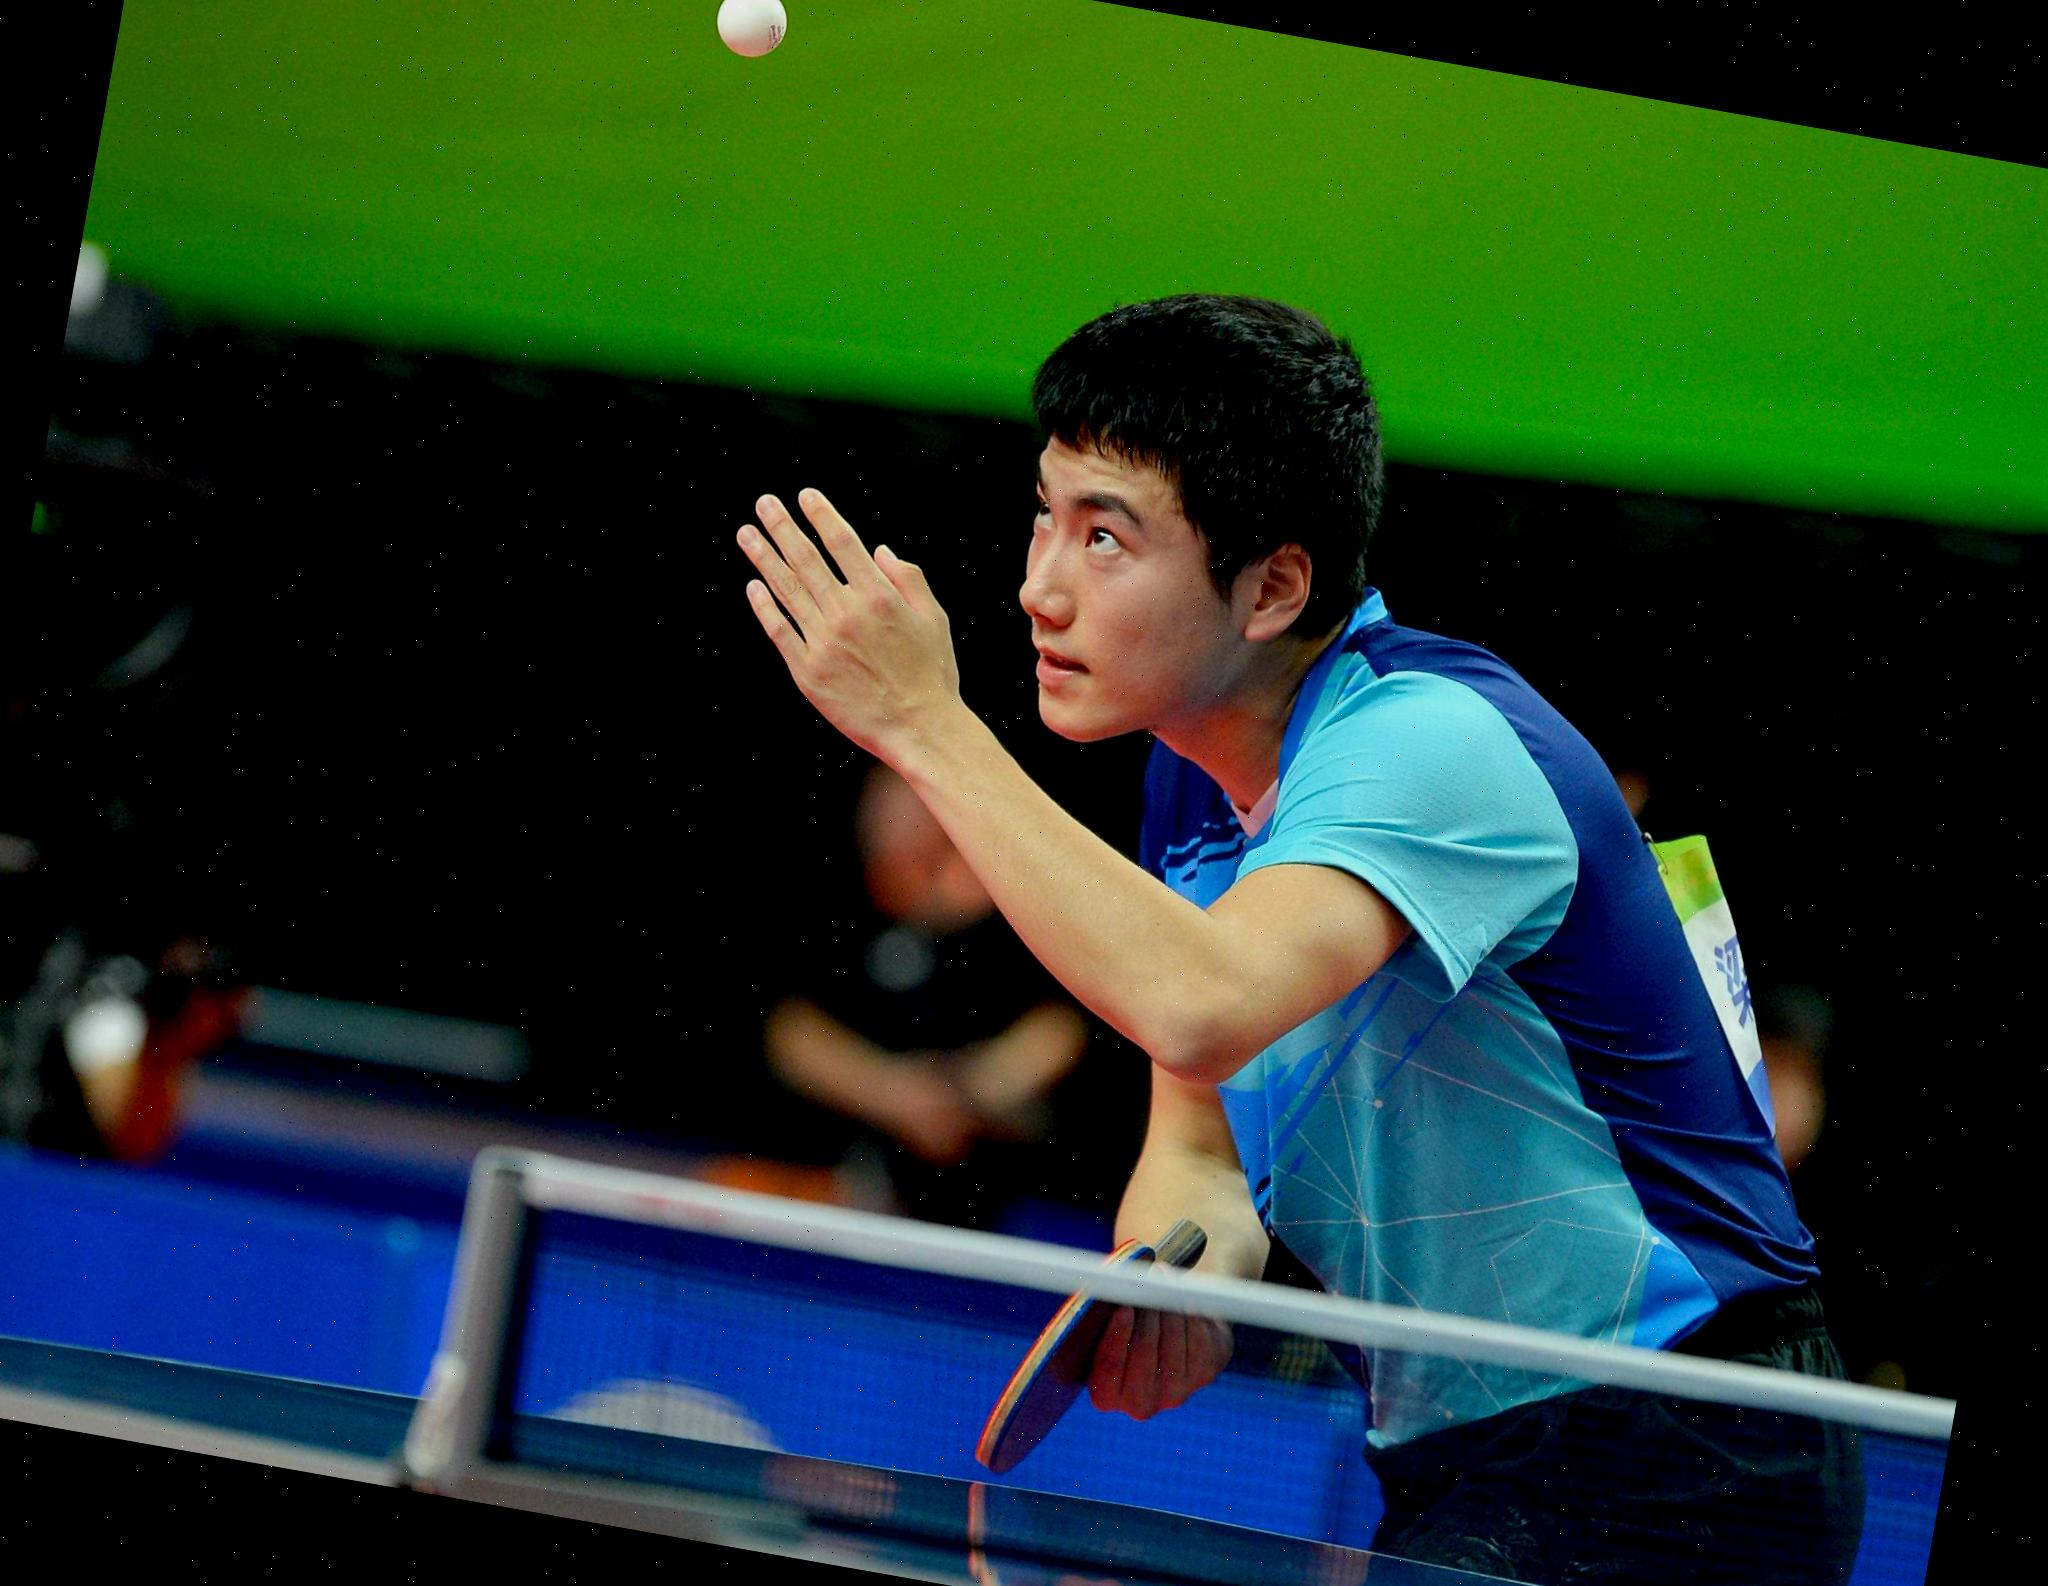ball: (698, 0, 801, 71)
